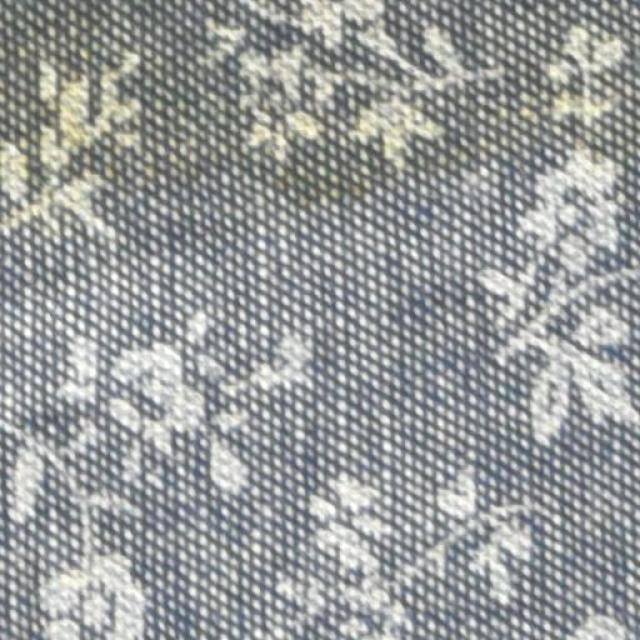Stain: (1, 1, 581, 241)
